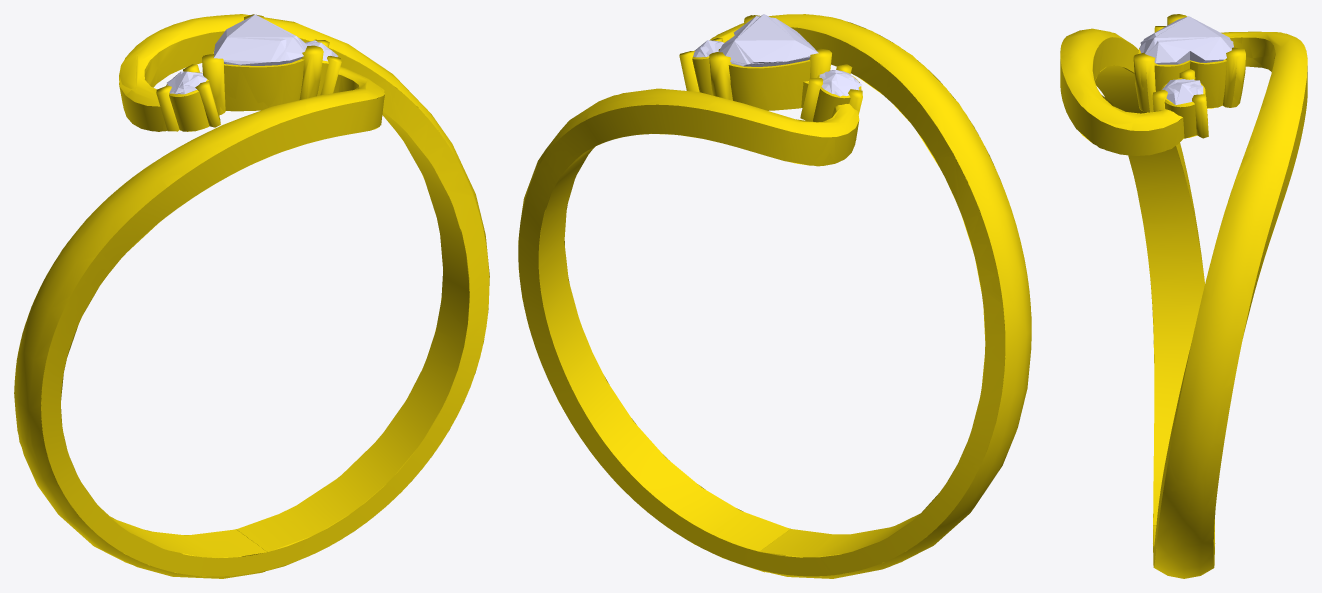
The model's file is DLR-D000675665.glb.
3 renders of one model, left to right at view 1: azimuth 30°, elevation 25°; view 2: azimuth 150°, elevation 25°; view 3: azimuth 270°, elevation 25°, orthographic.
Parts seen in each view (by area): view 1: highPolyMesh, lowPolyMesh; view 2: lowPolyMesh, highPolyMesh; view 3: highPolyMesh, lowPolyMesh.
Boxes of the visible parts, left/top/right/bottom form: highPolyMesh: left=14, top=14, right=489, bottom=578; lowPolyMesh: left=14, top=14, right=489, bottom=575; lowPolyMesh: left=518, top=14, right=1031, bottom=576; highPolyMesh: left=518, top=14, right=1031, bottom=578; highPolyMesh: left=1060, top=14, right=1307, bottom=578; lowPolyMesh: left=1060, top=16, right=1307, bottom=578.
Bounding box in the file's own units: 0.0194 × 0.0207 × 0.00882.
